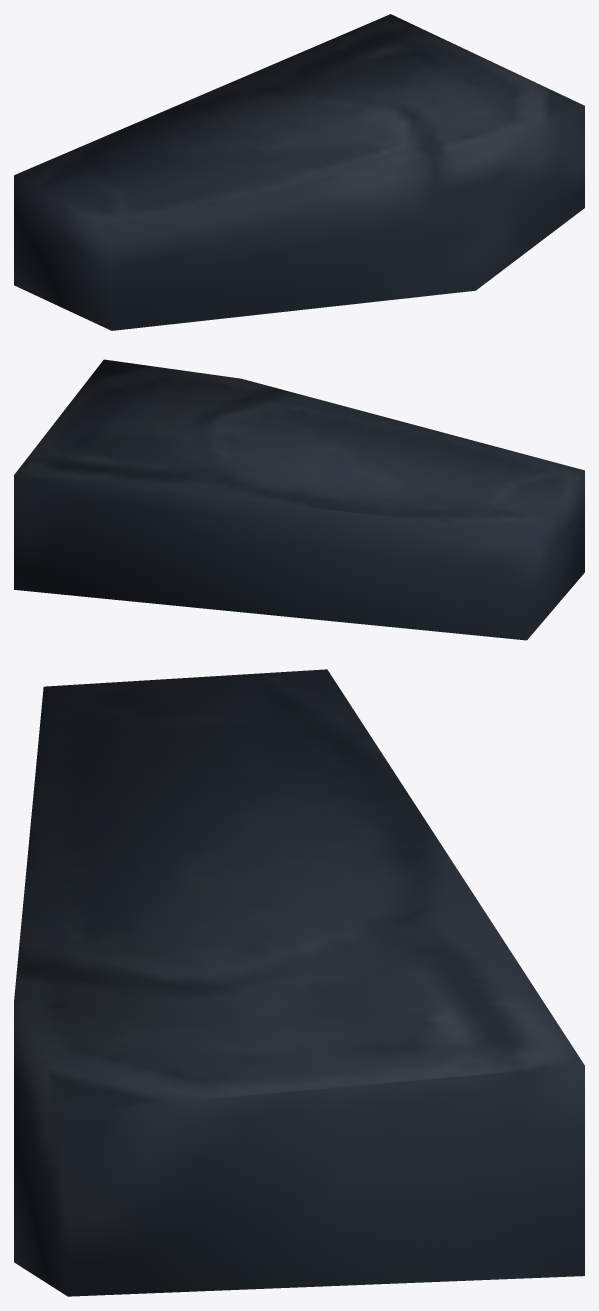
File: sn_jiguan_stone_006.FBX
The picture shows the model from 3 angles, top to bottom: view 1: azimuth 30°, elevation 25°; view 2: azimuth 150°, elevation 25°; view 3: azimuth 270°, elevation 25°; orthographic projection. The views are drawn at different scales.
Visible parts, largest first — view 1: sn_jiguan_stone_006; view 2: sn_jiguan_stone_006; view 3: sn_jiguan_stone_006.
Part boxes in pixels (<box>): sn_jiguan_stone_006: <box>14,14,584,330</box>; sn_jiguan_stone_006: <box>14,359,584,640</box>; sn_jiguan_stone_006: <box>14,669,584,1296</box>.
Bounding box in the file's own units: 113 × 31.19 × 61.9.
